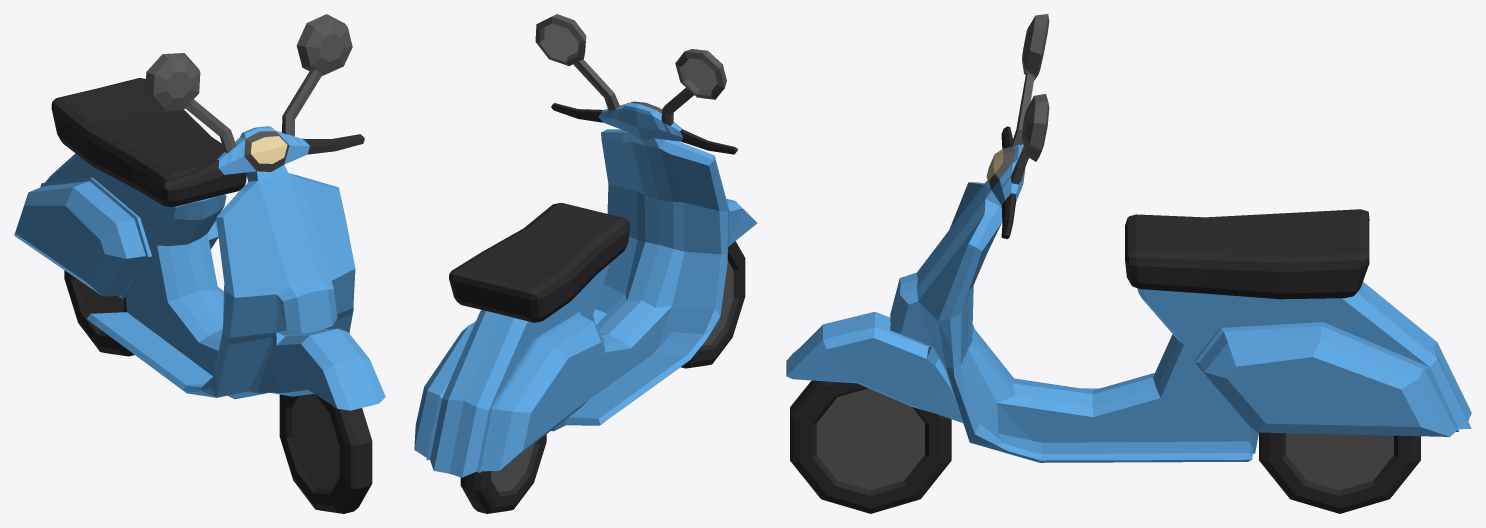
Rendered from vespa.fbx.
The picture shows the model from 3 angles, left to right: view 1: azimuth 30°, elevation 25°; view 2: azimuth 150°, elevation 25°; view 3: azimuth 270°, elevation 25°; orthographic projection. The views are drawn at different scales.
Parts seen in each view (by area): view 1: vespa; view 2: vespa; view 3: vespa.
Part boxes in pixels (x1=…): vespa: x1=14, y1=14, x2=385, y2=513; vespa: x1=414, y1=14, x2=757, y2=513; vespa: x1=786, y1=14, x2=1471, y2=513.
Size of the model in its own units: 1.48 by 2.88 by 3.94.
